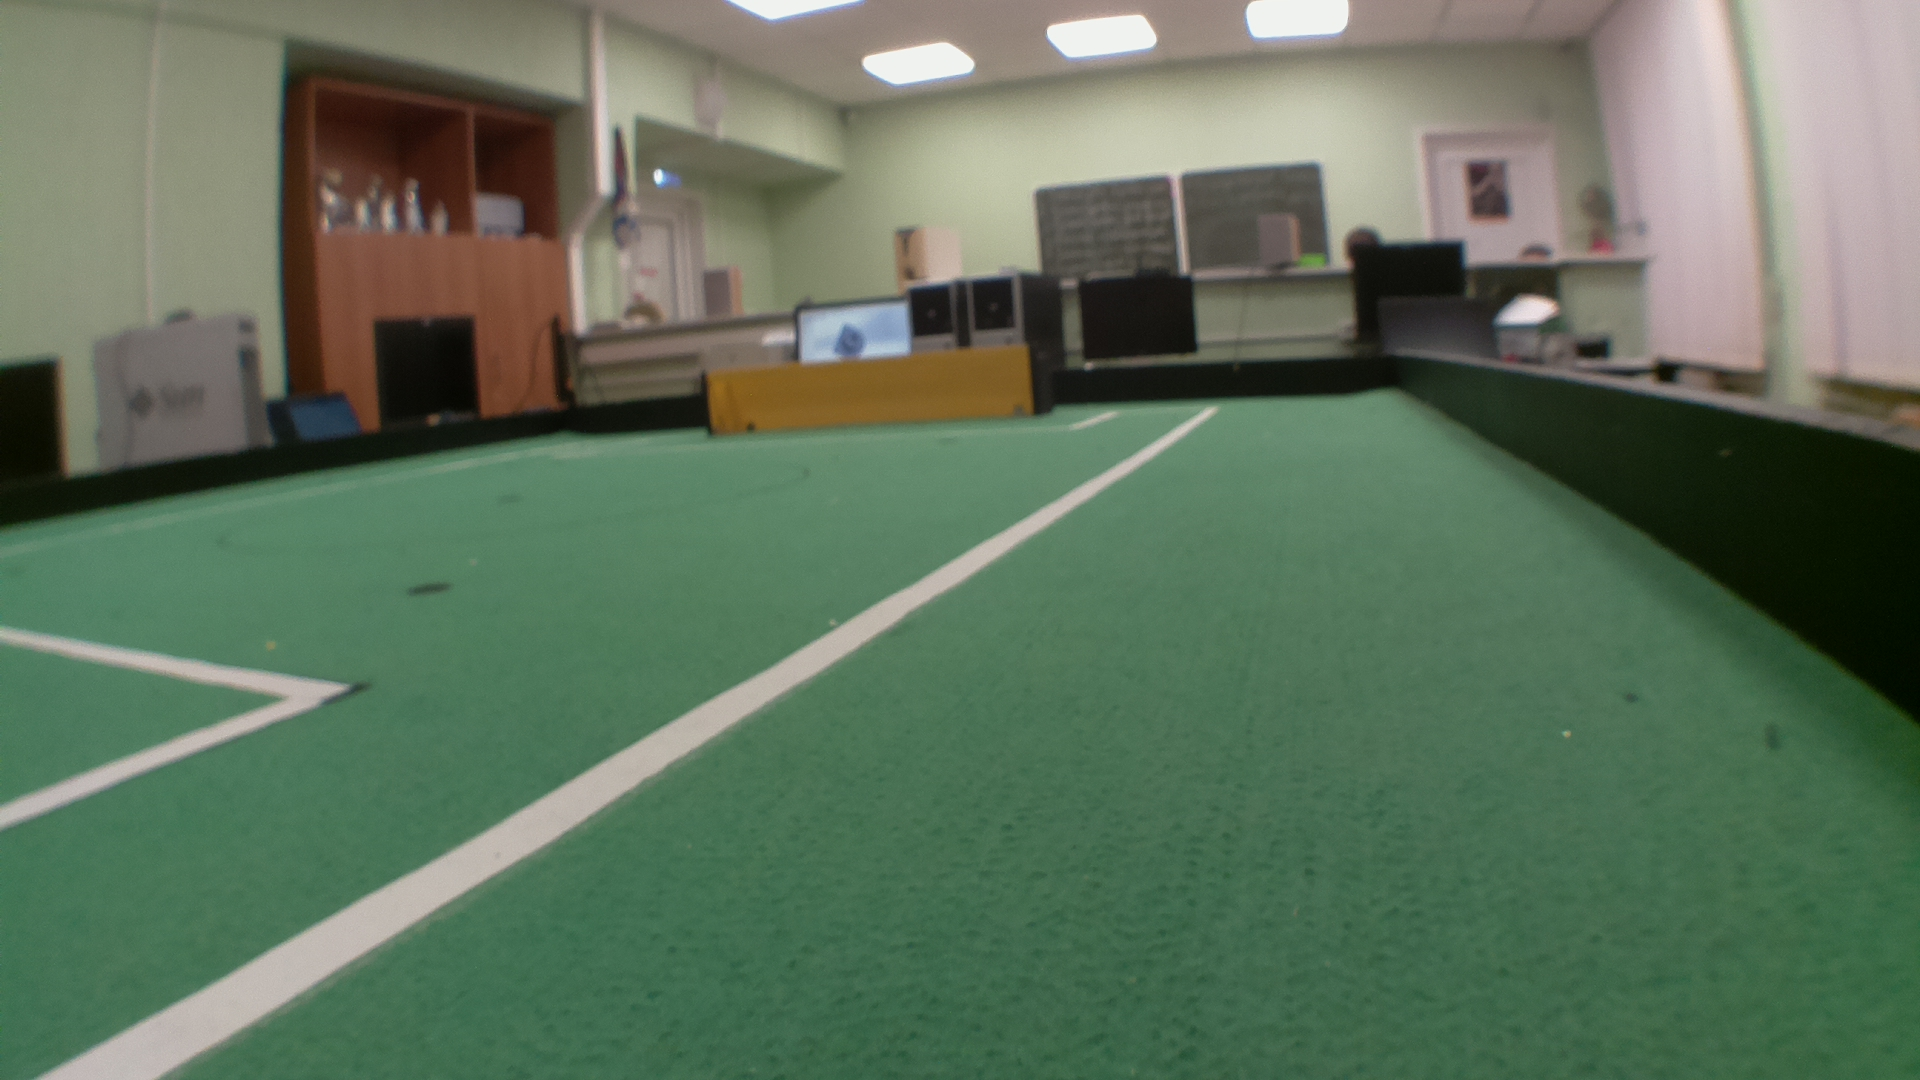YellowGoal: (703, 345, 1033, 435)
